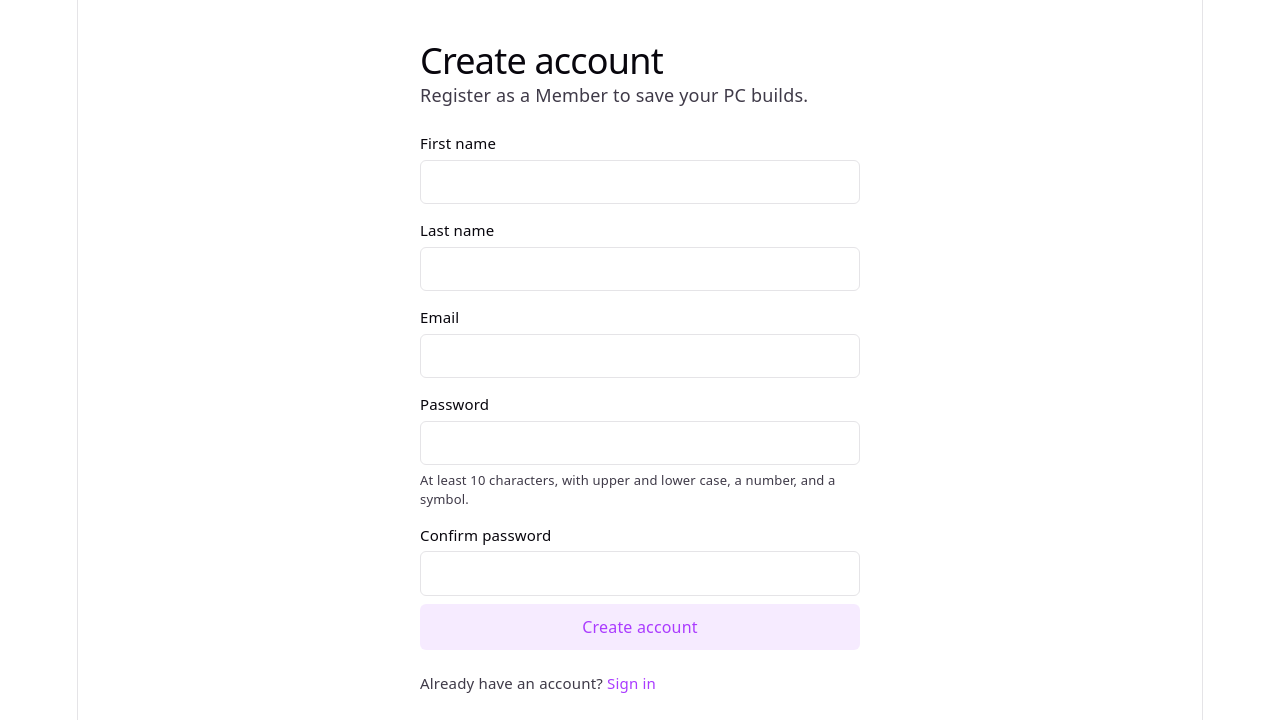
Test: RegisterPage › rejects mismatched passwords
Type "Ann" into the field labelled "First name" at (640, 182), box [420, 160, 860, 204]
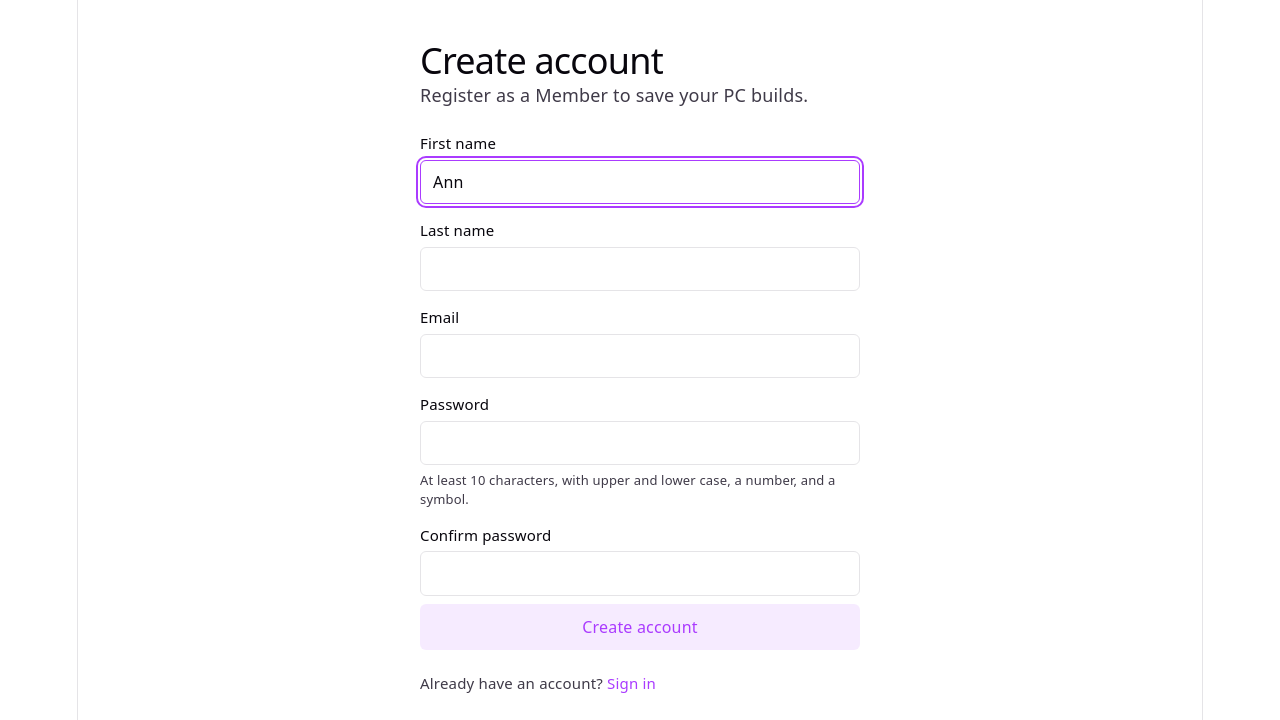
Type "Builder" into the field labelled "Last name" at (640, 269), box [420, 247, 860, 291]
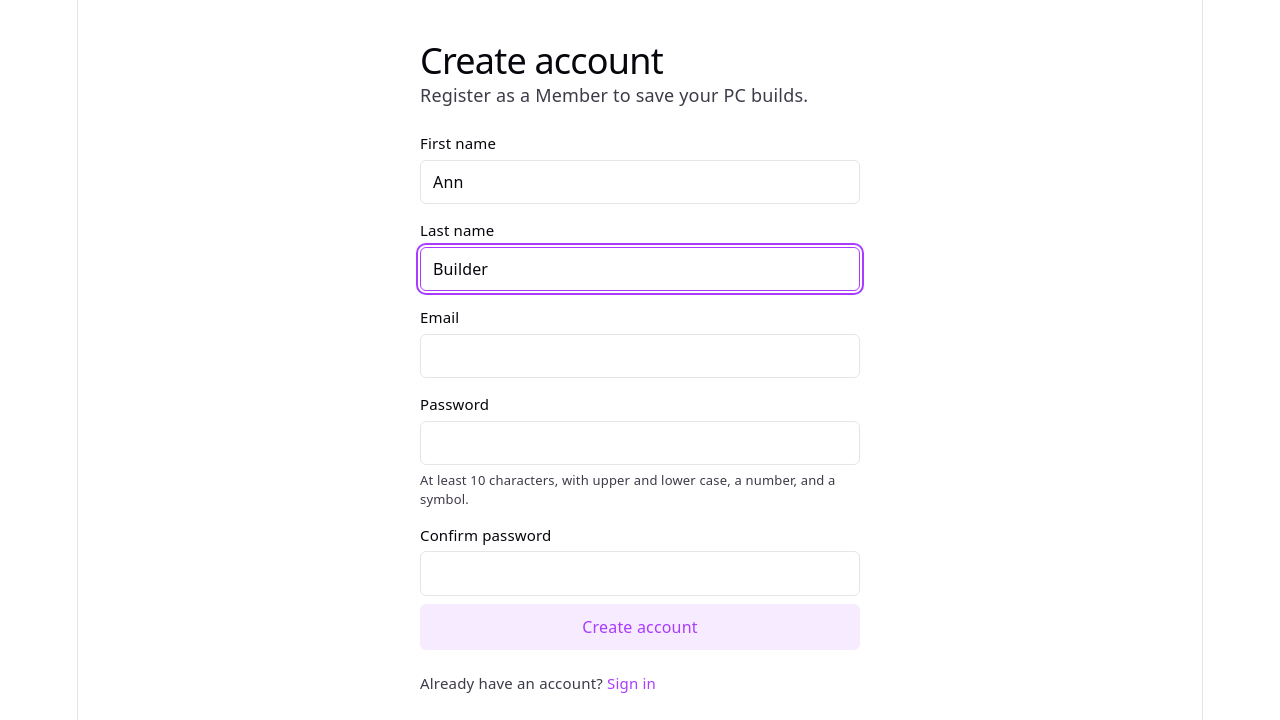
Type "ann@example.com" into the field labelled "Email" at (640, 356), box [420, 334, 860, 378]
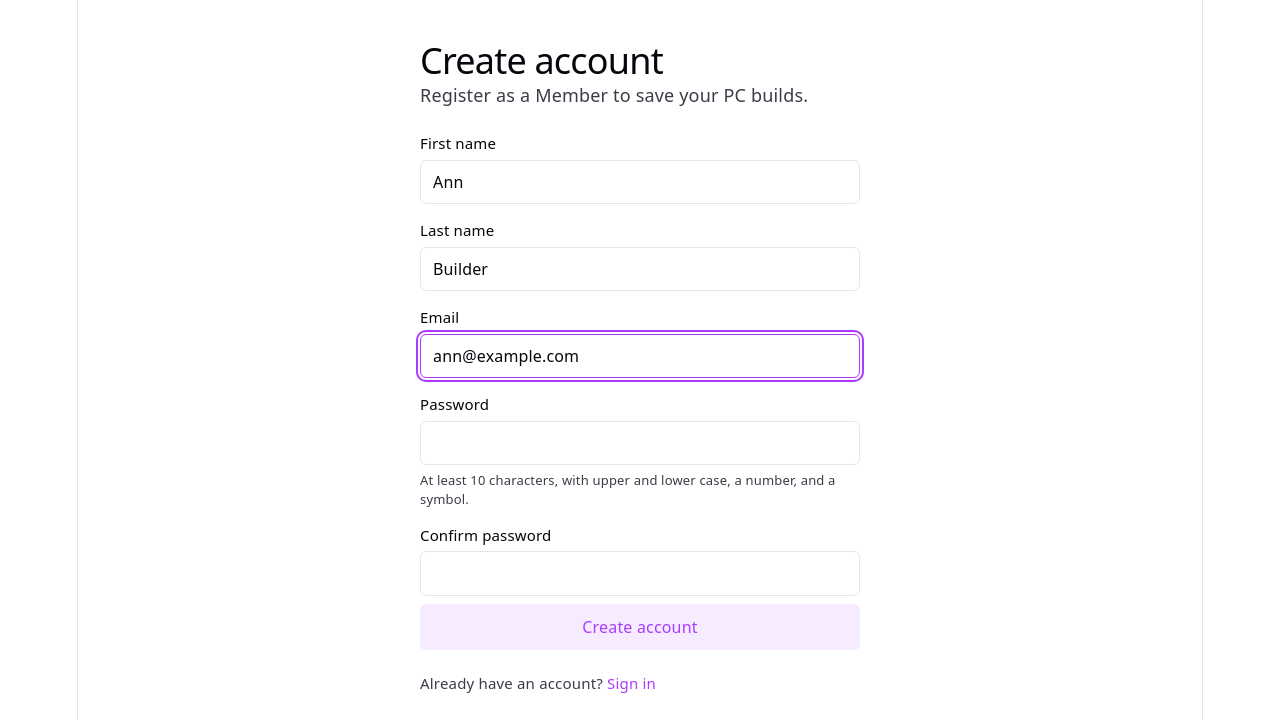
Type "Password1!" into the password field labelled "Password" at (640, 443), box [420, 421, 860, 465]
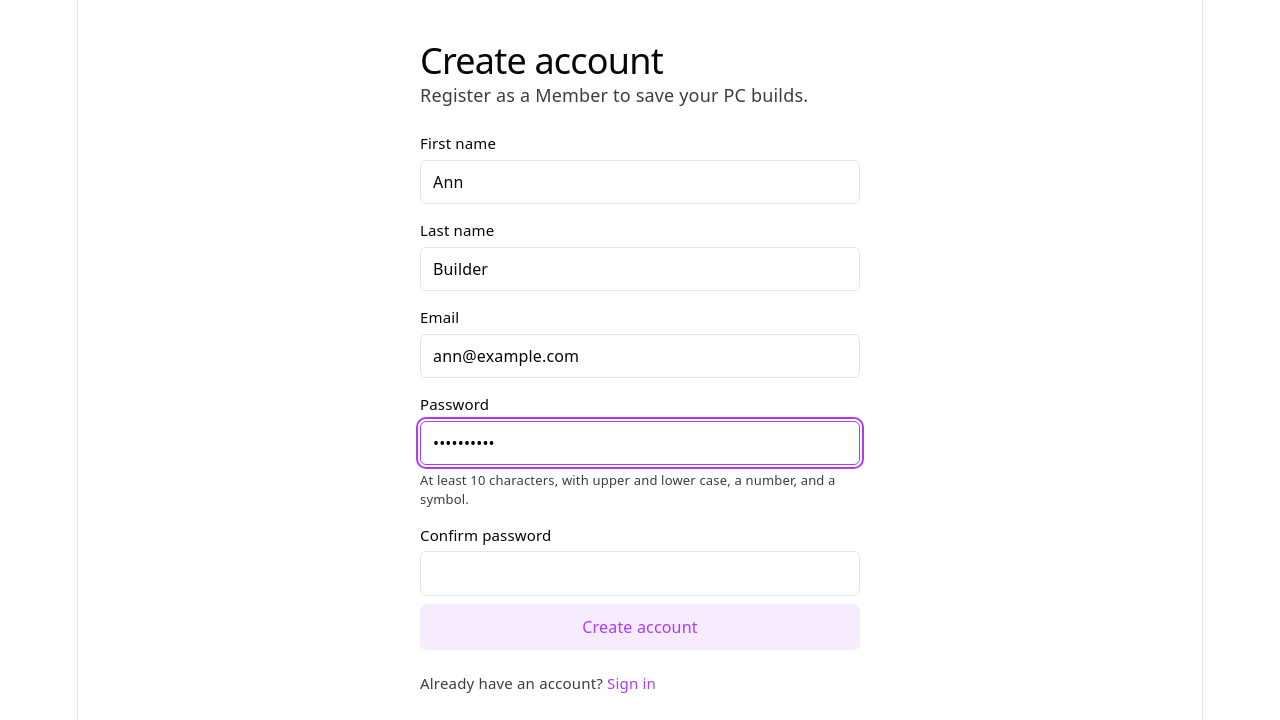
Type "Password2!" into the password field labelled "Confirm password" at (640, 574), box [420, 552, 860, 596]
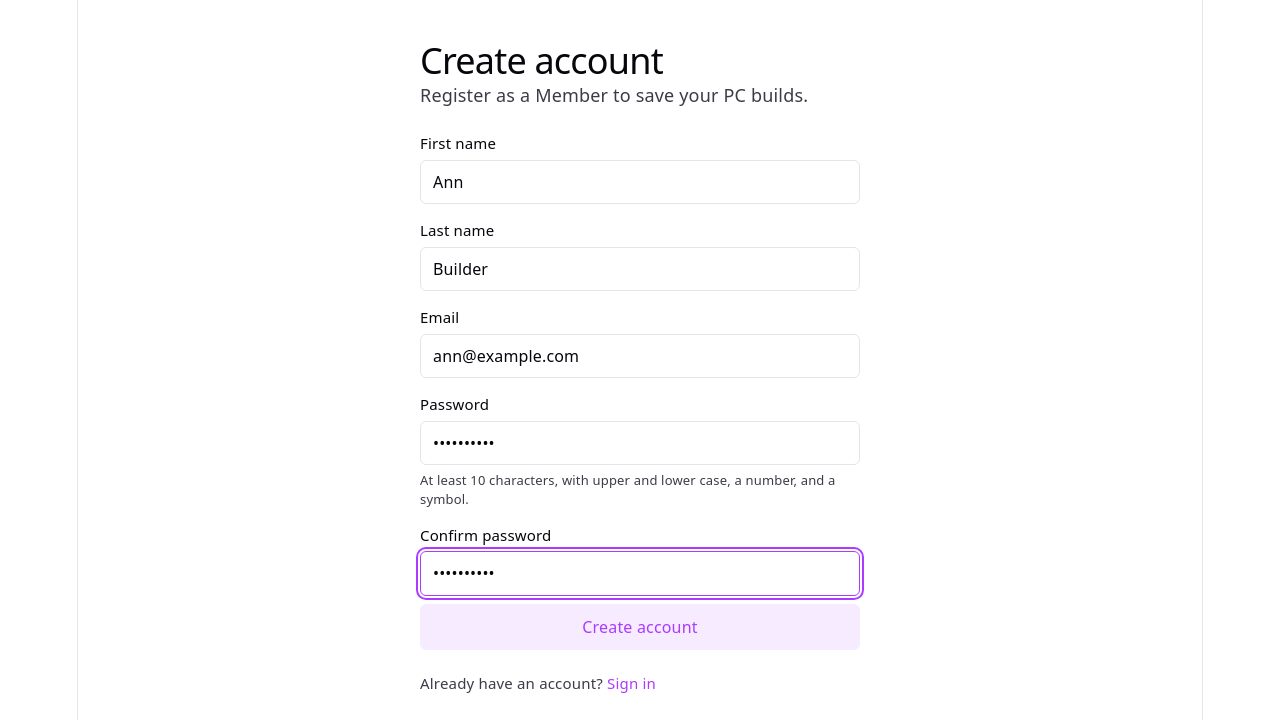
Click the button "Create account" at (640, 627), box [420, 604, 860, 650]
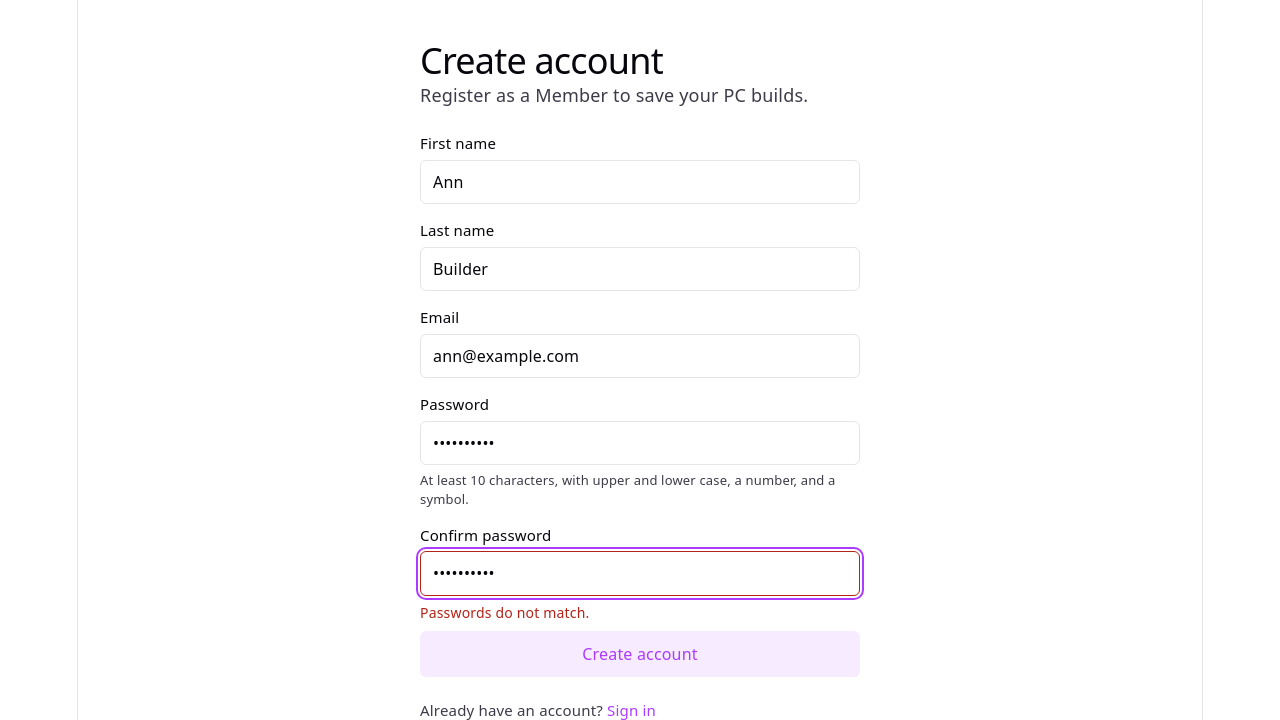
Now the text "Passwords do not match." is shown, box [420, 603, 590, 622]
